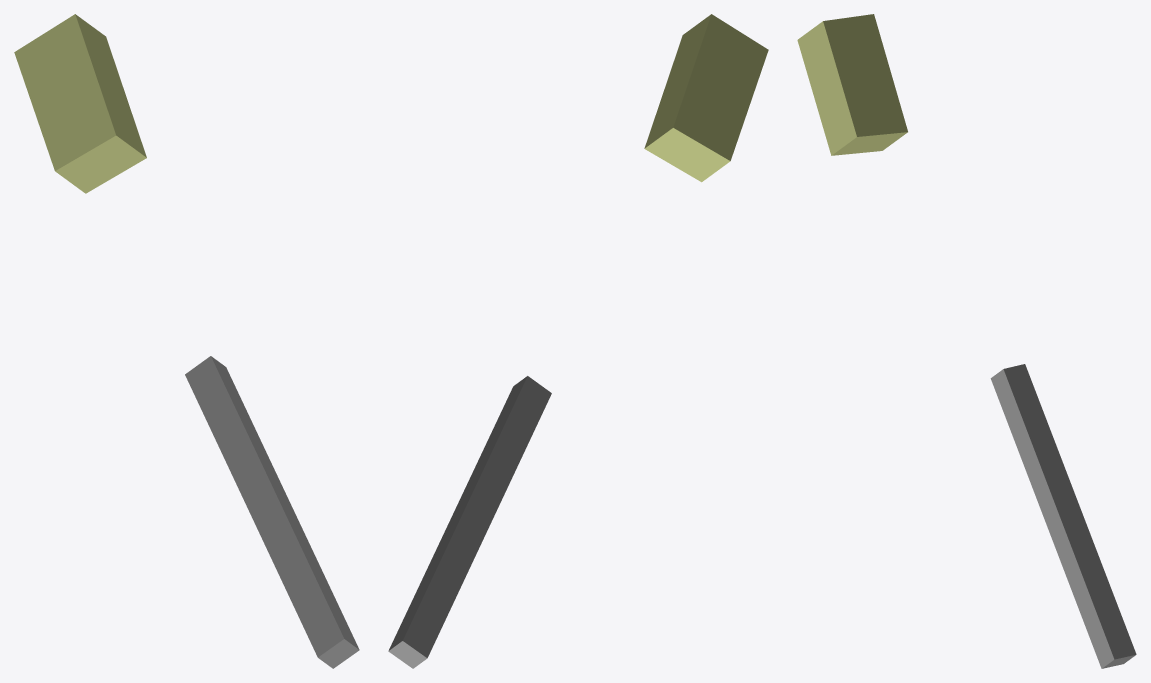
3 views of the same model, side by side, from view 1: azimuth 30°, elevation 25°; view 2: azimuth 150°, elevation 25°; view 3: azimuth 330°, elevation 25° (orthographic). The views are drawn at different scales.
Parts seen in each view (by area): view 1: 0_1_1_3_3_1_2_2; view 2: 0_1_1_3_3_1_2_2; view 3: 0_1_1_3_3_1_2_2.
Part boxes in pixels (box(x1,y1,x2,y2)): 0_1_1_3_3_1_2_2: box(14, 14, 359, 668); 0_1_1_3_3_1_2_2: box(388, 14, 768, 668); 0_1_1_3_3_1_2_2: box(797, 14, 1136, 668).
Size of the model in its own units: 39.66 by 77.87 by 10.42.
